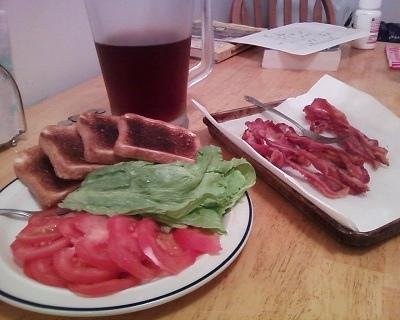lettuce: (58, 145, 256, 235)
tomato: (107, 215, 163, 280), (136, 217, 197, 276), (51, 246, 122, 284), (75, 238, 127, 272), (67, 272, 141, 294), (9, 236, 72, 260), (172, 226, 222, 256), (15, 216, 64, 244), (71, 210, 110, 245), (30, 256, 70, 286), (57, 216, 82, 244)
